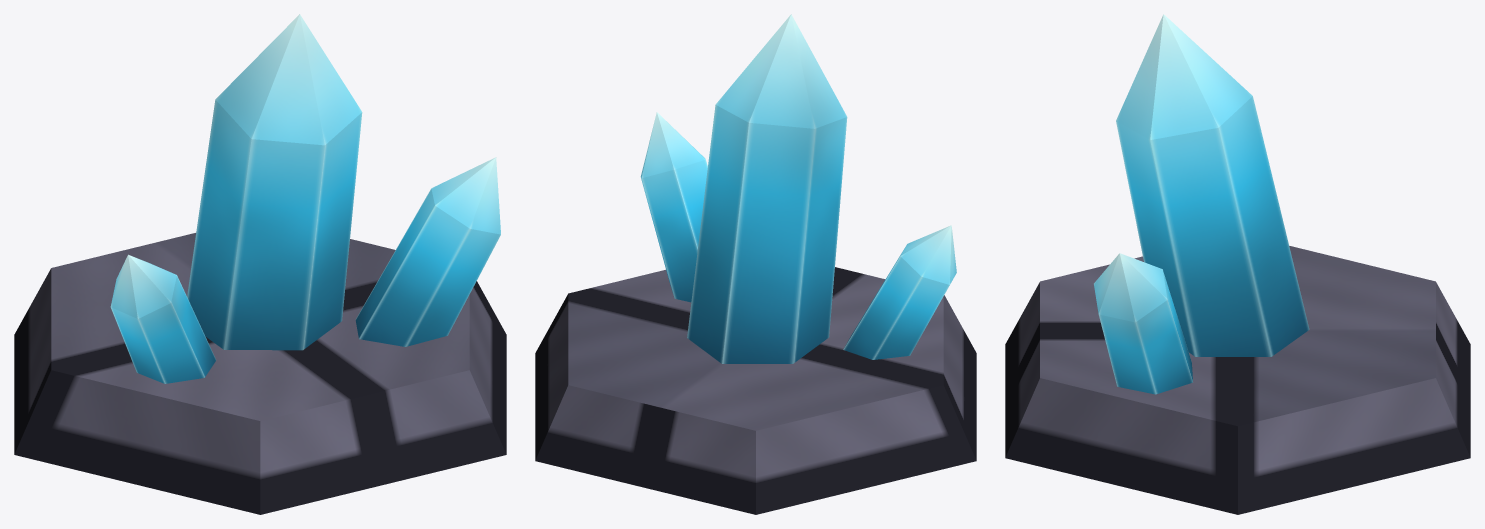
The model's file is trail_stud_cyan.glb.
3 renders of one model, left to right at view 1: azimuth 30°, elevation 25°; view 2: azimuth 150°, elevation 25°; view 3: azimuth 270°, elevation 25°, orthographic. The views are drawn at different scales.
Parts seen in each view (by area): view 1: trail_stud_cyan; view 2: trail_stud_cyan; view 3: trail_stud_cyan.
Part boxes in pixels (left/top/right/bottom): trail_stud_cyan: left=14, top=14, right=506, bottom=514; trail_stud_cyan: left=535, top=14, right=976, bottom=514; trail_stud_cyan: left=1005, top=14, right=1470, bottom=514.
Bounding box in the file's own units: 0.34 × 0.273 × 0.2944.
Materials: 2 (2 with a texture image).
